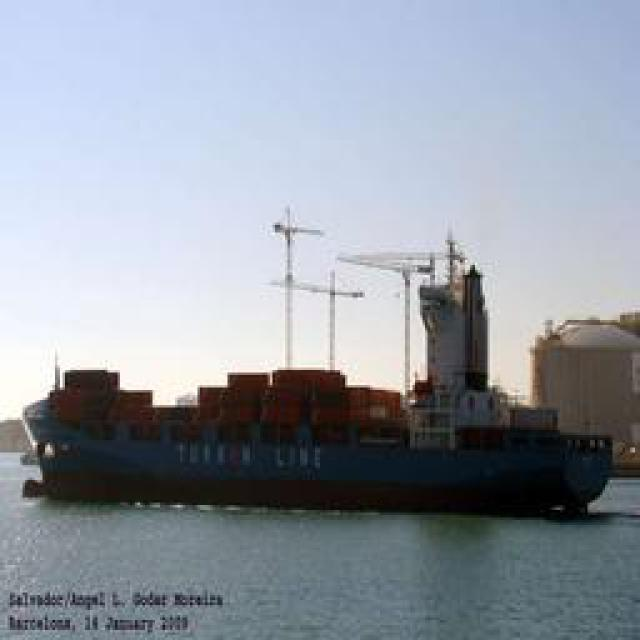Ship: (11, 355, 629, 525)
